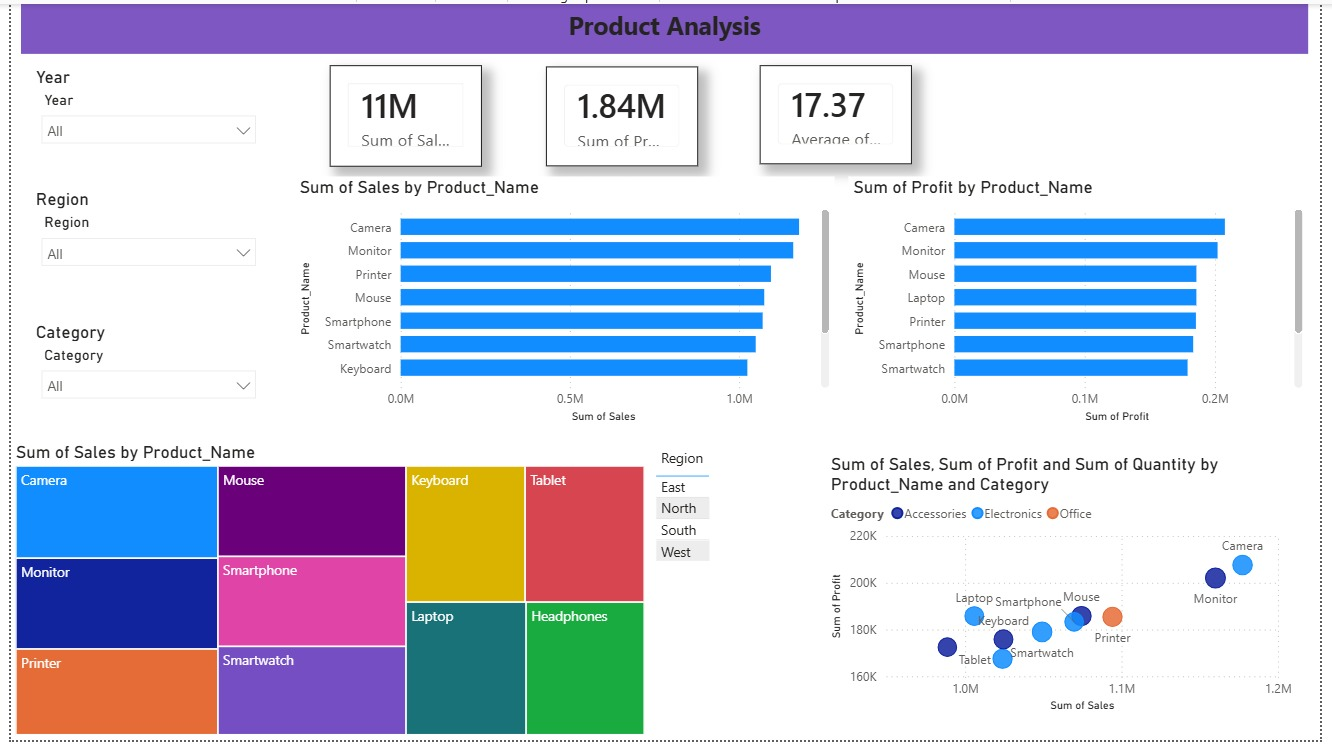

The dashboard page shown, as its layout file describes it:
{"tool":"powerbi","page":{"name":"Product Analysis","canvas":[1280,720],"ordinal":1},"visuals":[{"type":"textbox","box":[9.8,0,1259,49],"z":0},{"type":"cardVisual","fields":{"Data":["Sum(ecommerce_sales_cleaned.Sales)"]},"box":[312.3,59.6,149,98.9],"z":1000},{"type":"cardVisual","fields":{"Data":["Sum(ecommerce_sales_cleaned.Profit)"]},"box":[523.3,60.8,149,97.7],"z":2000},{"type":"cardVisual","fields":{"Data":["Avg(ecommerce_sales_cleaned.Profit_Margin)"]},"box":[731.9,59.6,149,96.6],"z":3000},{"type":"clusteredBarChart","fields":{"Category":["ecommerce_sales_cleaned.Product_Name"],"Y":["Sum(ecommerce_sales_cleaned.Sales)"]},"box":[277.7,169.3,528.1,245.6],"z":4000},{"type":"clusteredBarChart","fields":{"Category":["ecommerce_sales_cleaned.Product_Name"],"Y":["Sum(ecommerce_sales_cleaned.Profit)"]},"box":[818.9,169.3,449.4,245.6],"z":5000},{"type":"treemap","fields":{"Values":["Sum(ecommerce_sales_cleaned.Sales)"],"Group":["ecommerce_sales_cleaned.Product_Name"]},"box":[0,427.9,624.6,292],"z":6000},{"type":"scatterChart","fields":{"Category":["ecommerce_sales_cleaned.Product_Name"],"X":["Sum(ecommerce_sales_cleaned.Sales)"],"Series":["ecommerce_sales_cleaned.Category"],"Size":["Sum(ecommerce_sales_cleaned.Quantity)"],"Y":["Sum(ecommerce_sales_cleaned.Profit)"]},"box":[797.5,439.9,461.3,257.5],"z":7000},{"type":"slicer","title":"Year","fields":{"Values":["ecommerce_sales_cleaned.Year"]},"box":[19.1,60.8,230.1,98.9],"z":8000},{"type":"slicer","title":"Region","fields":{"Values":["ecommerce_sales_cleaned.Region"]},"box":[19.1,181.2,230.1,98.9],"z":8001},{"type":"slicer","title":"Category","fields":{"Values":["ecommerce_sales_cleaned.Category"]},"box":[19.1,311.1,230.1,98.9],"z":8002},{"type":"tableEx","fields":{"Values":["ecommerce_sales_cleaned.Region"]},"box":[625,428,172,292],"z":8003}]}

Visuals, with their boxes in screenshot pixels (x1, y1, x2, y2), scaled from the page's 1280x720 canvas onto the 1332x745 screenshot:
textbox: bbox(10, 0, 1320, 51)
cardVisual - Sum(ecommerce_sales_cleaned.Sales): bbox(325, 62, 480, 164)
cardVisual - Sum(ecommerce_sales_cleaned.Profit): bbox(545, 63, 700, 164)
cardVisual - Avg(ecommerce_sales_cleaned.Profit_Margin): bbox(762, 62, 917, 162)
clusteredBarChart - ecommerce_sales_cleaned.Product_Name x Sum(ecommerce_sales_cleaned.Sales): bbox(289, 175, 839, 429)
clusteredBarChart - ecommerce_sales_cleaned.Product_Name x Sum(ecommerce_sales_cleaned.Profit): bbox(852, 175, 1320, 429)
treemap - Sum(ecommerce_sales_cleaned.Sales) x ecommerce_sales_cleaned.Product_Name: bbox(0, 443, 650, 744)
scatterChart - ecommerce_sales_cleaned.Product_Name x Sum(ecommerce_sales_cleaned.Sales): bbox(830, 455, 1310, 722)
"Year" slicer: bbox(20, 63, 259, 165)
"Region" slicer: bbox(20, 187, 259, 290)
"Category" slicer: bbox(20, 322, 259, 424)
tableEx - ecommerce_sales_cleaned.Region: bbox(650, 443, 829, 744)
